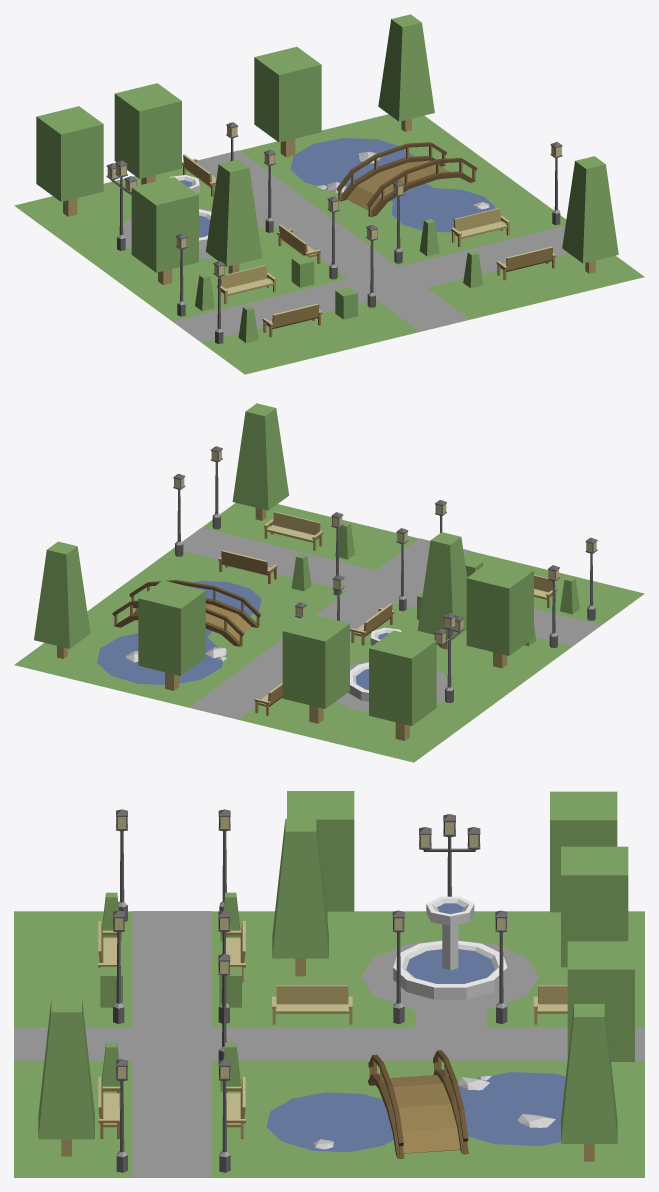
File: park_009.fbx
3 views of the same model, one above another, from view 1: azimuth 30°, elevation 25°; view 2: azimuth 150°, elevation 25°; view 3: azimuth 270°, elevation 25° (orthographic). The views are drawn at different scales.
Parts seen in each view (by area): view 1: park_009; view 2: park_009; view 3: park_009.
Boxes of the visible parts, x1=… form: park_009: x1=14, y1=14, x2=644, y2=374; park_009: x1=14, y1=403, x2=644, y2=762; park_009: x1=14, y1=791, x2=644, y2=1177.
Bounding box in the file's own units: 1600 × 470 × 1600.
